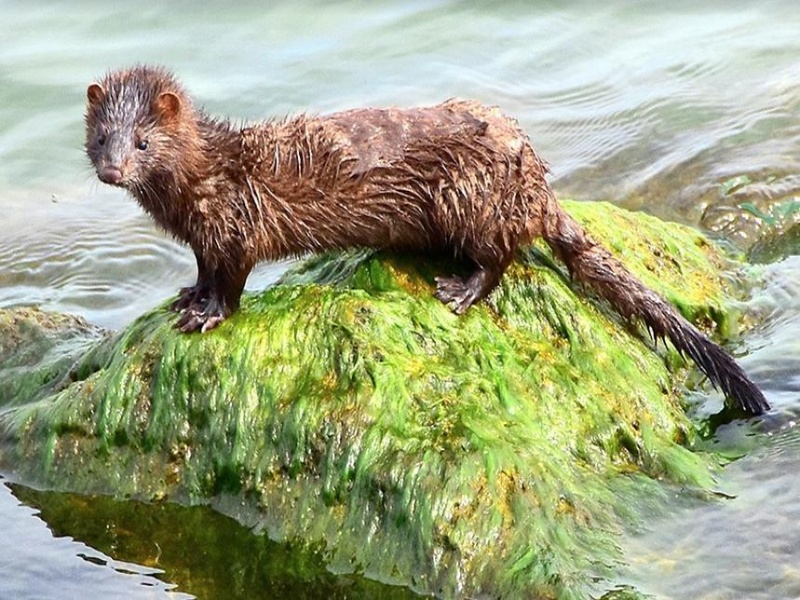minkish: (83, 63, 770, 415)
